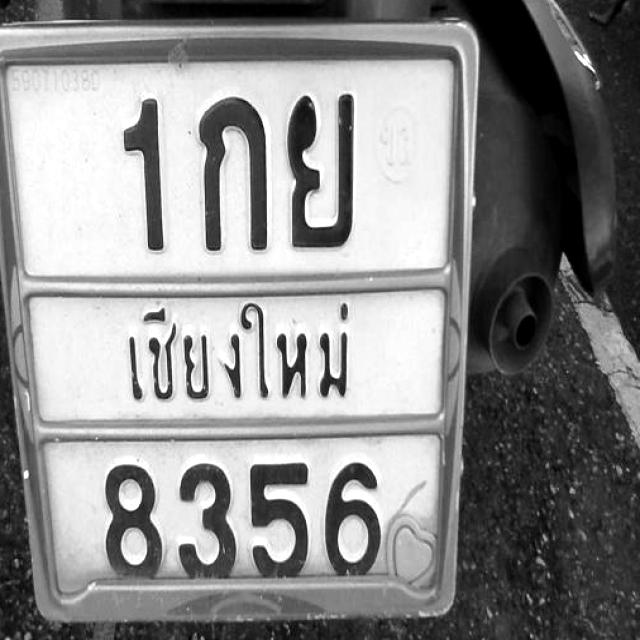letters: (185, 89, 280, 253), (105, 98, 173, 276), (283, 84, 353, 244), (174, 454, 236, 580), (324, 447, 385, 570), (242, 456, 304, 574), (104, 452, 158, 585)
license-plate: (0, 40, 467, 608)
province: (99, 295, 367, 409)
